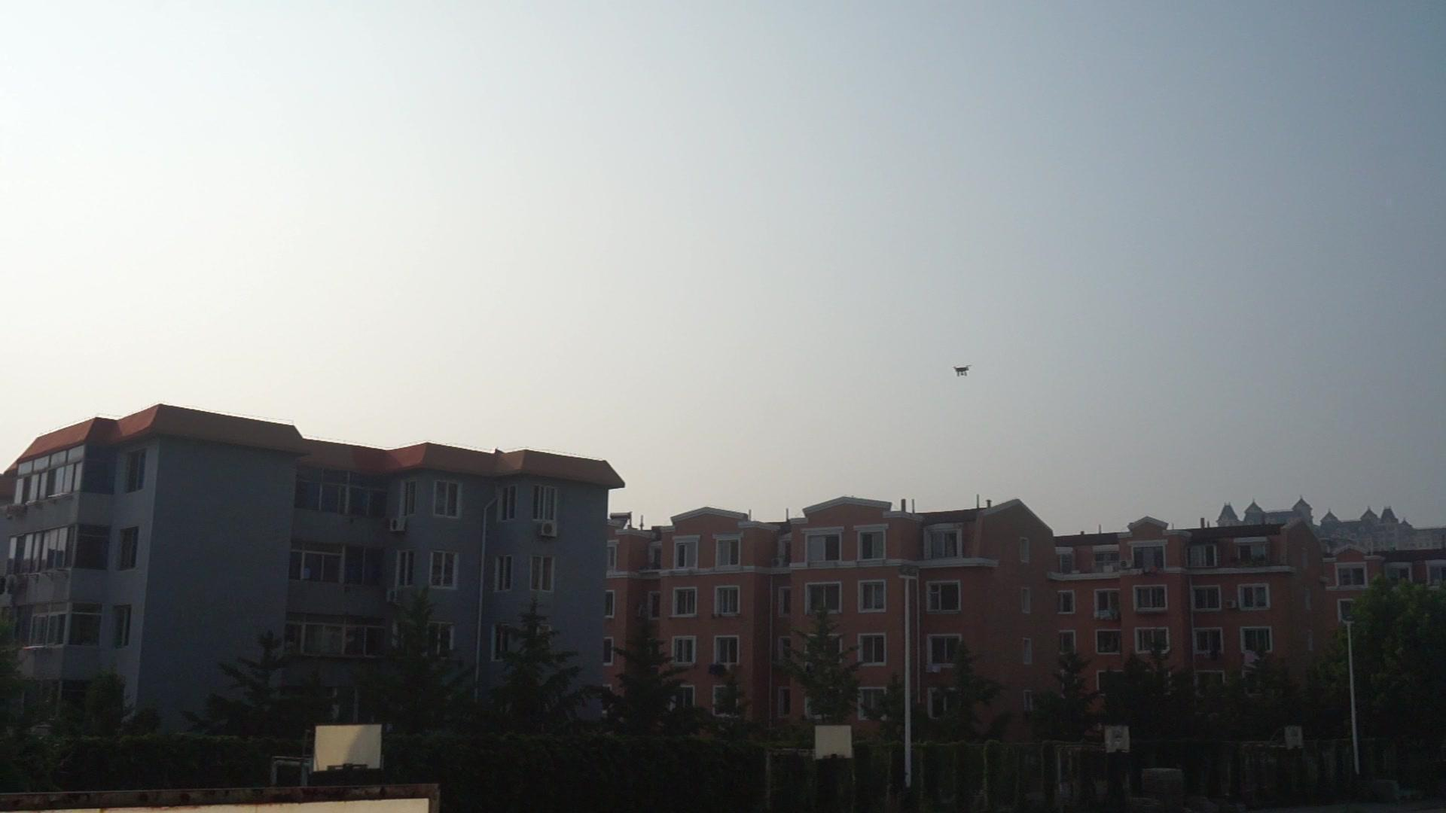UAV: (953, 366, 973, 378)
